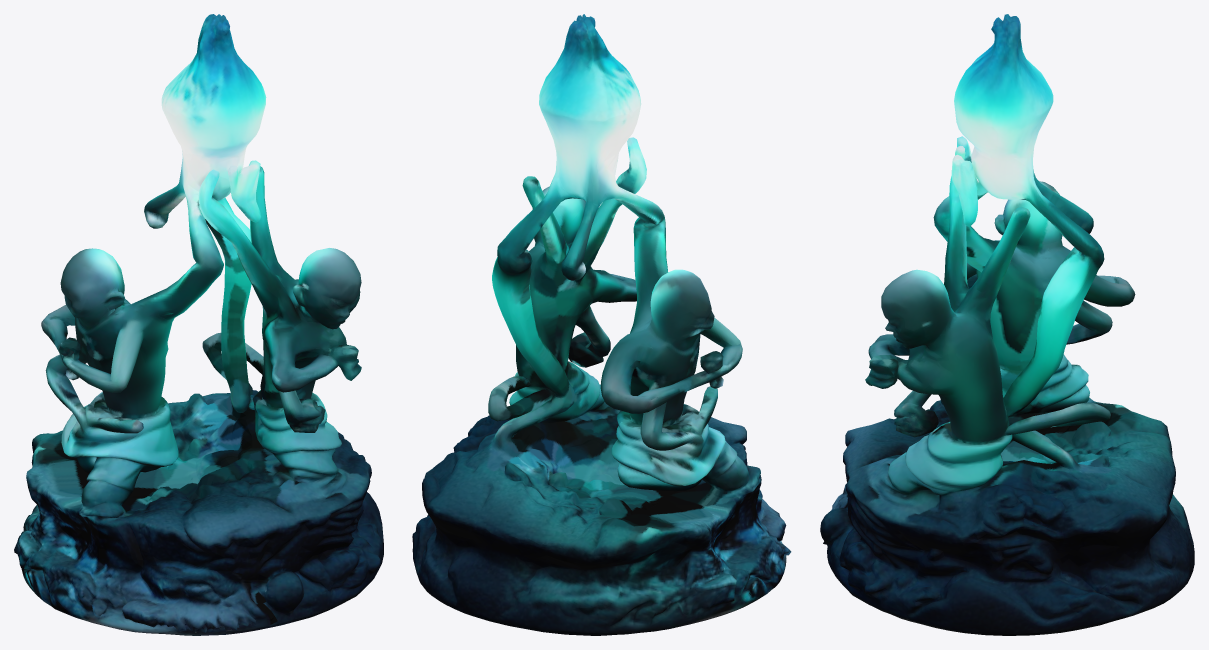
Rendered from escultura.fbx.
3 views of the same model, side by side, from view 1: azimuth 30°, elevation 25°; view 2: azimuth 150°, elevation 25°; view 3: azimuth 270°, elevation 25° (orthographic).
Visible parts, largest first — view 1: model; view 2: model; view 3: model.
Part boxes in pixels (left/top/right/bottom): model: left=14, top=14, right=383, bottom=635; model: left=412, top=14, right=791, bottom=635; model: left=820, top=14, right=1194, bottom=635.
Size of the model in its own units: 63.33 by 100 by 61.83.
